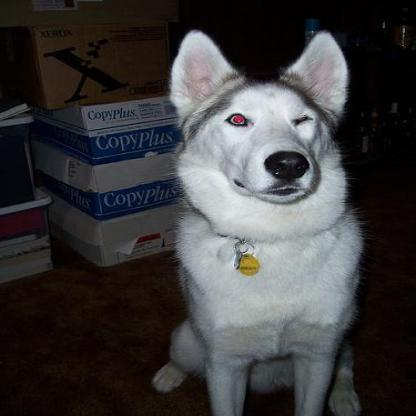Siberian_husky: (150, 26, 367, 413)
